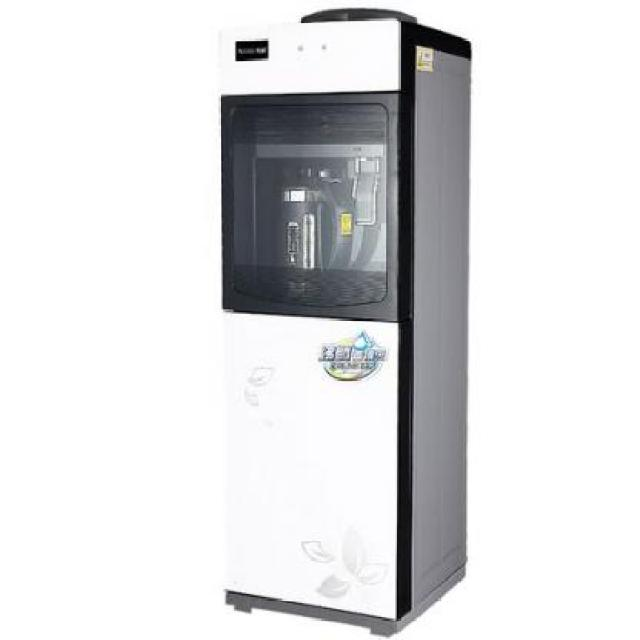cooler: (213, 5, 474, 633)
